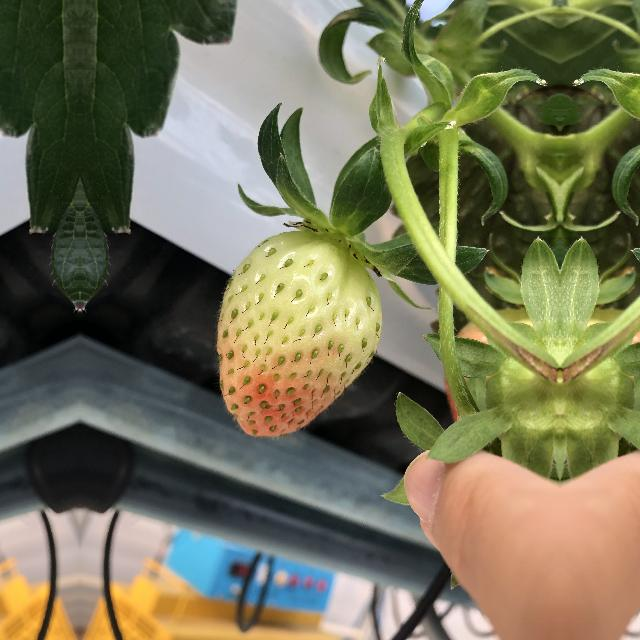Health_50: (210, 214, 390, 441)
